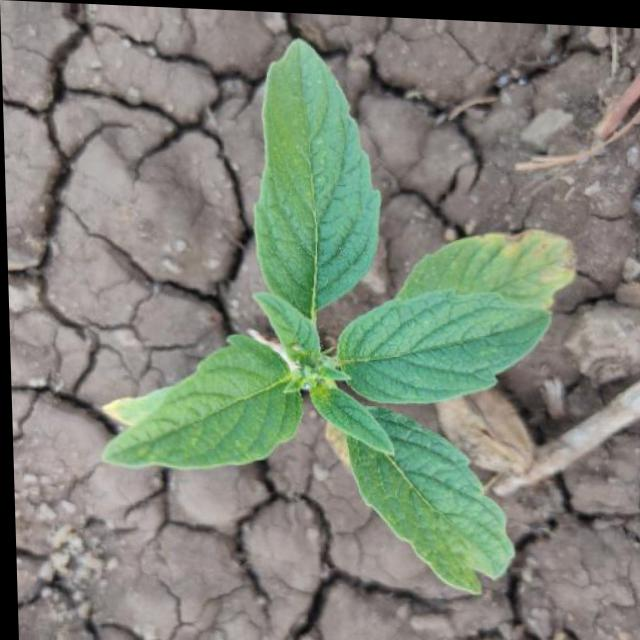crop: (77, 31, 583, 592)
